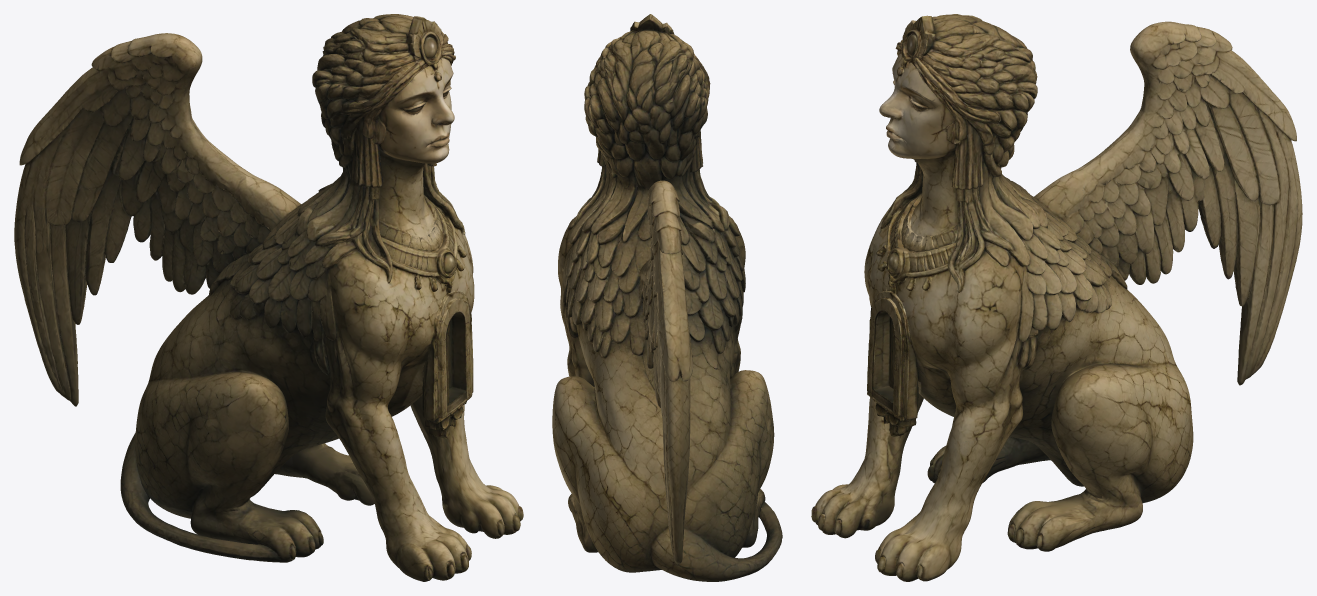
Rendered from esfinge-del-umbral-web.glb.
3 renders of one model, left to right at view 1: azimuth 30°, elevation 25°; view 2: azimuth 150°, elevation 25°; view 3: azimuth 270°, elevation 25°, orthographic. The views are drawn at different scales.
Parts seen in each view (by area): view 1: tmpnl3gdu_pobj; view 2: tmpnl3gdu_pobj; view 3: tmpnl3gdu_pobj.
Boxes of the visible parts, box(x1,y1,x2,y2) form: tmpnl3gdu_pobj: box(14, 14, 523, 581); tmpnl3gdu_pobj: box(552, 14, 782, 581); tmpnl3gdu_pobj: box(811, 14, 1302, 581).
Size of the model in its own units: 0.6279 by 1 by 0.8454.
Materials: 1 (1 with a texture image).
